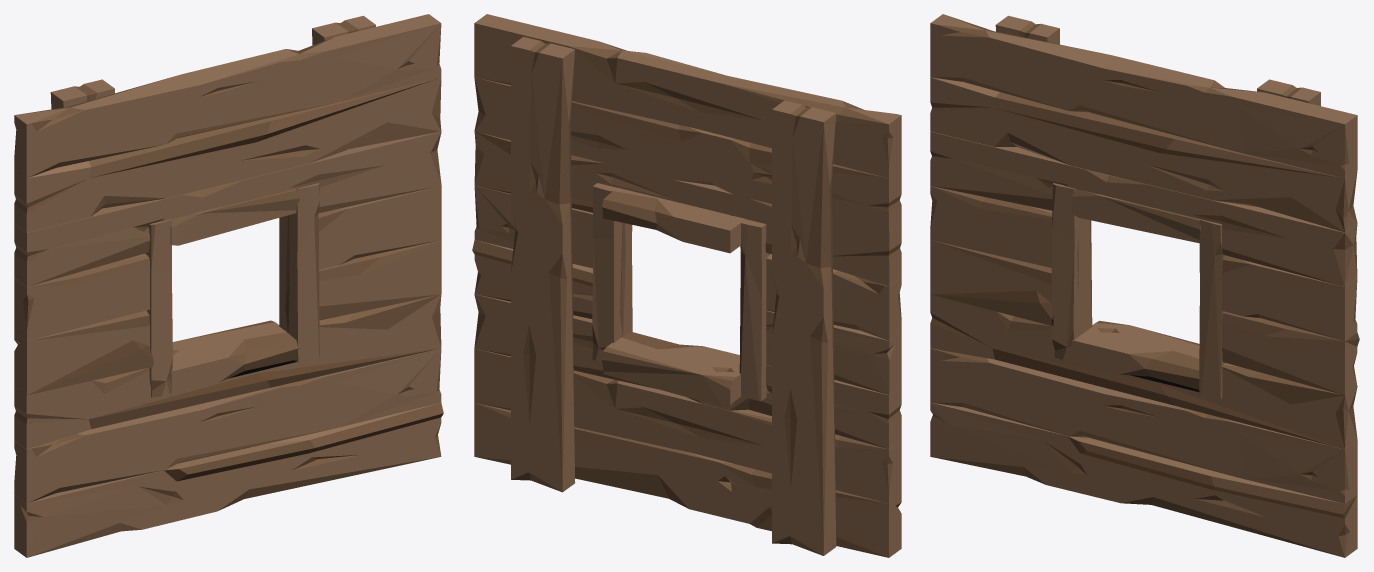
Rendered from mesh_plank_wall_window_small.fbx.
3 views of the same model, side by side, from view 1: azimuth 30°, elevation 25°; view 2: azimuth 150°, elevation 25°; view 3: azimuth 330°, elevation 25° (orthographic).
Parts seen in each view (by area): view 1: mesh_plank_wall_window_small; view 2: mesh_plank_wall_window_small; view 3: mesh_plank_wall_window_small.
Boxes of the visible parts, left/top/right/bottom form: mesh_plank_wall_window_small: left=14, top=14, right=443, bottom=557; mesh_plank_wall_window_small: left=472, top=14, right=901, bottom=557; mesh_plank_wall_window_small: left=930, top=14, right=1359, bottom=557.
Size of the model in its own units: 2 by 2 by 0.2564.
